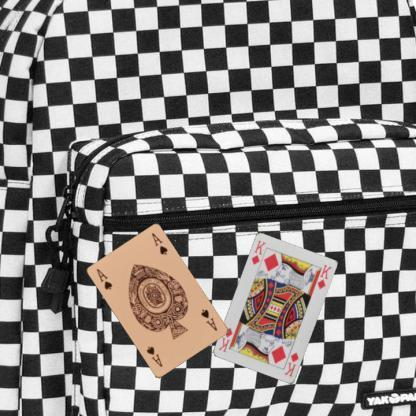As: (199, 306, 219, 332), (94, 266, 114, 292)
Kd: (281, 350, 300, 378), (249, 237, 267, 266)
